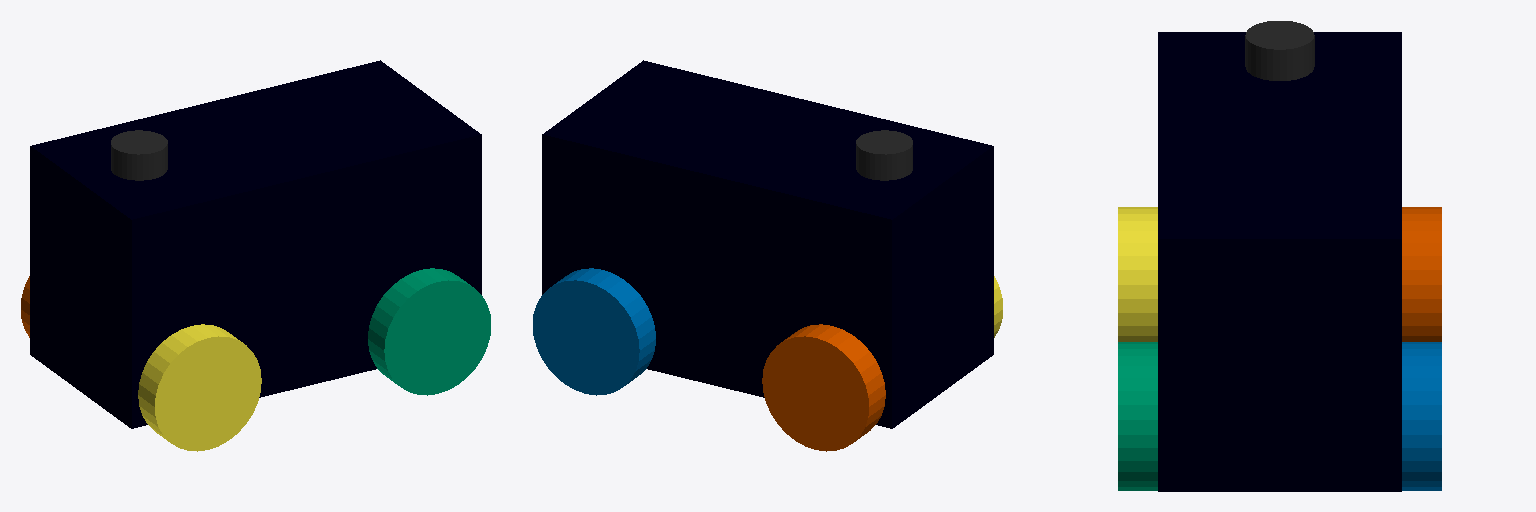
The robot description file, URDF, robot "mammoth":
<?xml version="1.0"?>
<robot name="mammoth">

  <!-- Robot Footprint -->
  <link name="base_footprint"/>
  
  <!--
      ROBOT BASE
  -->
  
  <link name="base_link">
    <visual>
      <geometry>
        <box size="0.9144 0.4572 0.5223"/>
      </geometry>
        <material name="blue">
        <color rgba="0 0 0.1 1"/>
      </material>
    </visual>
    <collision>
      <geometry>
        <box size="0.9144 0.4572 0.5223"/>
      </geometry>
    </collision>
    <inertial>
     <mass value="163.0"/>
     <inertia ixx="8.0996" ixy="0.0" ixz="0.0" iyy="14.1868" iyz="0.0" izz="16.6077"/>
    </inertial>
  </link>
	
  <joint name="base_footprint_to_base_link" type="fixed">
    <origin rpy="0 0 0" xyz="0 0 0.3115"/>
    <parent link="base_footprint"/>
    <child link="base_link"/>
  </joint>

  <!--	
      BACK LEFT WHEEL LINK AND JOINT
  -->

  <link name="wheel_bl">
    <visual>
      <geometry>
        <cylinder length="0.075" radius="0.14"/>
      </geometry>
    </visual>
    <collision>
      <geometry>
        <cylinder length="0.075" radius="0.14"/>
      </geometry>
      <contact_coefficients mu="0.72" resitution="0"  k_p="0"  k_d="0" />
    </collision>
    <inertial>
      <mass value="1.8"/>
      <inertia
        ixx="0.009664" ixy="0.0"       ixz="0.0"
                        iyy="0.009664" iyz="0.0"
                                        izz="0.01764"/>
    </inertial>
  </link>

  <joint name="base_to_wheel_bl" type="continuous">
    <origin rpy="1.57 -3.14159 0" xyz="0.3 -0.2660 -0.180"/>
    <parent link="base_link"/>
    <child link="wheel_bl"/>
    <axis xyz="0 0 1"/>
  </joint>

  <!--
      FRONT LEFT WHEEL LINK AND JOINT
  -->

  <link name="wheel_fl">
    <visual>
      <geometry>
        <cylinder length="0.075" radius="0.14"/>
      </geometry>
    </visual>
    <collision>
      <geometry>
        <cylinder length="0.075" radius="0.14"/>
      </geometry>
      <contact_coefficients mu="0.72" resitution="0"  k_p="0"  k_d="0" />
    </collision>
    <inertial>
      <mass value="1.8"/>
      <inertia
        ixx="0.009664" ixy="0.0"       ixz="0.0"
                        iyy="0.009664" iyz="0.0"
                                        izz="0.01764"/>
    </inertial>
  </link>

  <joint name="base_to_wheel_fl" type="continuous">
    <origin rpy="1.57 -3.14159 0" xyz="-0.3 -0.2660 -0.180"/>
    <parent link="base_link"/>
    <child link="wheel_fl"/>
    <axis xyz="0 0 1"/>
  </joint>

  <!--
      BACK RIGHT WHEEL LINK AND JOINT
  -->

  <link name="wheel_br">
    <visual>
      <geometry>
        <cylinder length="0.075" radius="0.14"/>
      </geometry>
    </visual>
    <collision>
      <geometry>
        <cylinder length="0.075" radius="0.14"/>
      </geometry>
      <contact_coefficients mu="0.72" resitution="0"  k_p="0"  k_d="0" />
    </collision>
    <inertial>
      <mass value="1.8"/>
      <inertia
        ixx="0.009664" ixy="0.0"       ixz="0.0"
                        iyy="0.009664" iyz="0.0"
                                        izz="0.01764"/>
    </inertial>
  </link>

  <joint name="base_to_wheel_br" type="continuous">
    <origin rpy="1.57 -3.14159 0" xyz="0.3 0.2660 -0.180"/>
    <parent link="base_link"/>
    <child link="wheel_br"/>
    <axis xyz="0 0 1"/>
  </joint>

  <!--
      FRONT RIGHT WHEEL LINK AND JOINT
  -->

  <link name="wheel_fr">  
    <visual>
      <geometry>
        <cylinder length="0.075" radius="0.14"/>
      </geometry>
    </visual>
    <collision>
      <geometry>
        <cylinder length="0.075" radius="0.14"/>
      </geometry>
      <contact_coefficients mu="0.72" resitution="0"  k_p="0"  k_d="0" />
    </collision>
    <inertial>
      <mass value="1.8"/>
      <inertia
        ixx="0.009664" ixy="0.0"       ixz="0.0"
                        iyy="0.009664" iyz="0.0"
                                        izz="0.01764"/>
    </inertial>
  </link>

  <joint name="base_to_wheel_fr" type="continuous">
    <origin rpy="1.57 -3.14159 0" xyz="-0.3 0.2660 -0.180"/>
    <parent link="base_link"/>
    <child link="wheel_fr"/>
    <axis xyz="0 0 1"/>
  </joint>

  <!--
      LIDAR LINK, IMU LINK AND JOINT
  -->

  <link name="laser_link">
    <origin rpy="0 0 0" xyz="-0.3048 0 0.5233"/>
    <visual>
      <geometry>
        <cylinder length="0.072898" radius="0.064836"/>
      </geometry>
      <material name="grey">
        <color rgba="0.2 0.2 0.2 1"/>
      </material>
    </visual>
    <collision>
      <geometry>
        <cylinder length="0.072898" radius="0.084836"/>
      </geometry>
    </collision>
    <inertial>
      <mass value="1e-5" />
      <inertia ixx="1e-6" ixy="0" ixz="0" iyy="1e-6" iyz="0" izz="1e-6" />
    </inertial>
  </link>

  <joint name="base_to_laser" type="fixed">
    <origin rpy="0 0 0" xyz="-0.3048 0 0.2900"/>
    <parent link="base_link"/>
    <child link="laser_link"/>
  </joint>

 <link name="imu_link">
    <origin rpy="0 0 0" xyz=" 0 0.200"/>
    <visual>
      <geometry>
        <cylinder length="0.05" radius="0.025"/>
      </geometry>
    </visual>
    <collision>
      <geometry>
        <cylinder length="0.05" radius="0.025"/>
      </geometry>
    </collision>
    <inertial>
      <mass value="1e-5" />
      <inertia ixx="1e-6" ixy="0" ixz="0" iyy="1e-6" iyz="0" izz="1e-6" />
    </inertial>
  </link>

  <joint name="base_to_imu" type="fixed">
    <origin rpy="0 0 0" xyz="-0.3048 0 0.2900"/>
    <parent link="base_link"/>
    <child link="imu_link"/>
  </joint>
  
    <!--
      GAZEBO PLUGINS & SENSORS
  -->
   <gazebo>
    <plugin filename="ignition-gazebo-diff-drive-system"
              name="ignition::gazebo::systems::DiffDrive">
      <left_joint>base_to_wheel_fl</left_joint>
      <left_joint>base_to_wheel_bl</left_joint>

      <right_joint>base_to_wheel_fr</right_joint>
      <right_joint>base_to_wheel_br</right_joint>


      <wheel_separation>0.6</wheel_separation>
      <wheel_radius>0.14</wheel_radius>
      <odom_publish_frequency>20</odom_publish_frequency>

      <frame_id>odom</frame_id>
      <child_frame_id>base_footprint</child_frame_id>
    </plugin>
  </gazebo>
  
  <gazebo reference="laser_link">
    <sensor type="gpu_lidar" name="laser_link">
      <topic>lidar</topic> <!-- comes through as /lidar/points for lidar processor -->
      <update_rate>20</update_rate>
      <lidar>
        <scan>
          <horizontal>
            <samples>1024</samples>
            <resolution>1</resolution>
            <min_angle>-3.14159</min_angle>
            <max_angle>3.14159</max_angle>
          </horizontal>
          <vertical>
            <samples>32</samples>
            <resolution>1</resolution>
            <min_angle>-0.261799</min_angle>
            <max_angle>0.261799</max_angle>
          </vertical>
        </scan>
        <range>
          <min>0.08</min>
          <max>10.0</max>
          <resolution>0.05</resolution>
        </range>
      </lidar>
      <alwaysOn>1</alwaysOn>
      <visualize>true</visualize>
    </sensor>
  </gazebo>
  
  <gazebo reference="imu_link">
    <gravity>true</gravity>
    <sensor type="imu" name="imu_link">
      <always_on>true</always_on>
      <update_rate>100</update_rate>
      <visualize>true</visualize>
      <topic>/imu</topic>
        <topicName>/imu</topicName>
        <bodyName>imu_link</bodyName>
        <updateRateHZ>20.0</updateRateHZ>
        <gaussianNoise>0.0</gaussianNoise>
        <xyzOffset>0 0 0</xyzOffset>
        <rpyOffset>0 0 0</rpyOffset>
        <frameName>imu_link</frameName>
        <initialOrientationAsReference>false</initialOrientationAsReference>
      <pose>0 0 0 0 0 0</pose>
    </sensor>
  </gazebo>
</robot>

--- Render facts (derived) ---
3 views of the same robot in one strip: view 1: azimuth 30°, elevation 25°; view 2: azimuth 150°, elevation 25°; view 3: azimuth 270°, elevation 25° (orthographic).
Robot: mammoth — 8 links, 7 joints (4 continuous, 3 fixed); root link base_footprint; default pose: every joint at zero.
Links seen in each view (by area): view 1: base_link, wheel_bl, wheel_fl, laser_link; view 2: base_link, wheel_br, wheel_fr, laser_link; view 3: base_link, wheel_bl, wheel_br, wheel_fl, wheel_fr, laser_link.
Boxes of the visible links, <box> form: base_link: <box>30,60,481,428</box>; wheel_bl: <box>368,268,490,395</box>; wheel_fl: <box>138,324,261,451</box>; laser_link: <box>111,130,167,180</box>; base_link: <box>542,60,993,428</box>; wheel_br: <box>533,268,655,395</box>; wheel_fr: <box>762,324,885,451</box>; laser_link: <box>856,130,912,180</box>; base_link: <box>1158,32,1401,491</box>; wheel_bl: <box>1118,342,1157,490</box>; wheel_br: <box>1402,342,1441,490</box>; wheel_fl: <box>1118,207,1157,341</box>; wheel_fr: <box>1402,207,1441,341</box>; laser_link: <box>1245,21,1314,80</box>.
Size in the robot's own frame: 0.9144 by 0.6072 by 0.6465 metres.
Geometry: primitives only (box / cylinder / sphere), no mesh files.